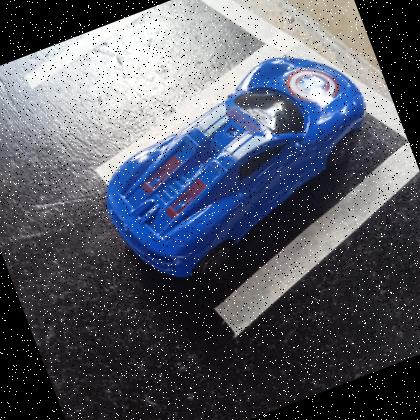Car: (107, 55, 368, 280)
